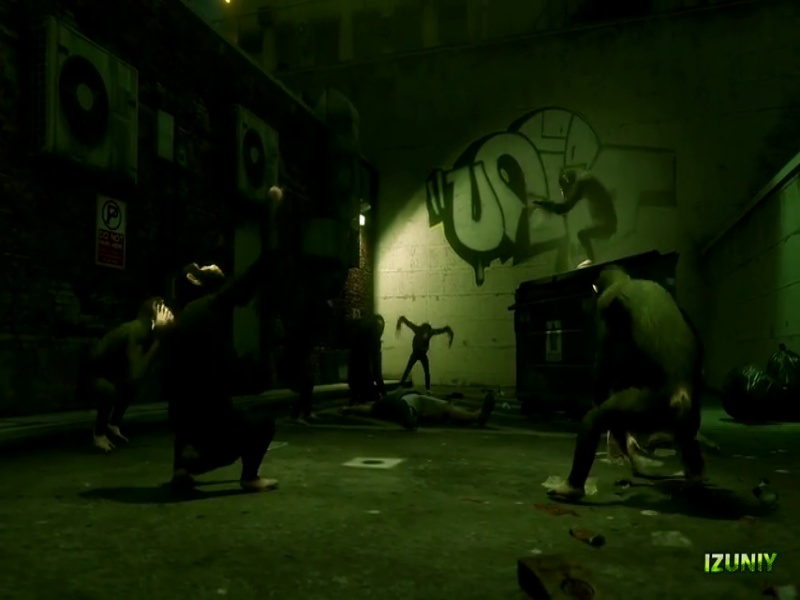human: (534, 260, 702, 507)
